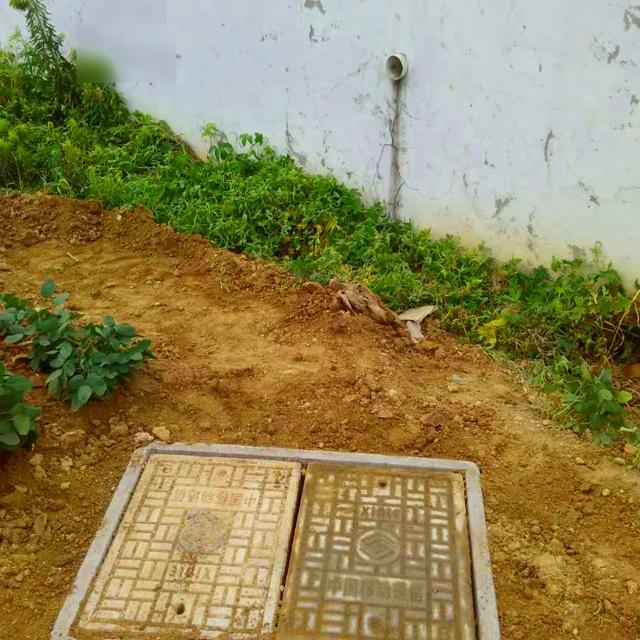good: (49, 438, 506, 640)
